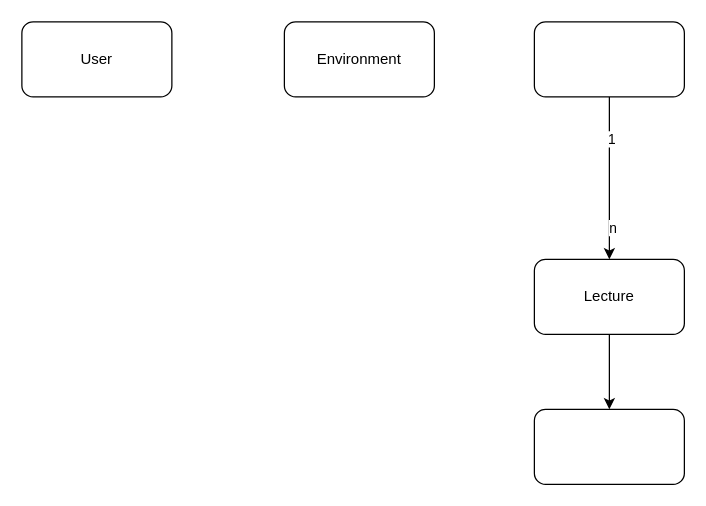
Some shapes in this 706 by 506 pixel diagram are drawn without their labels. Each missing label, with the centre of its shape:
"Course" belongs at point (608, 59).
"Vídeo" belongs at point (608, 446).
